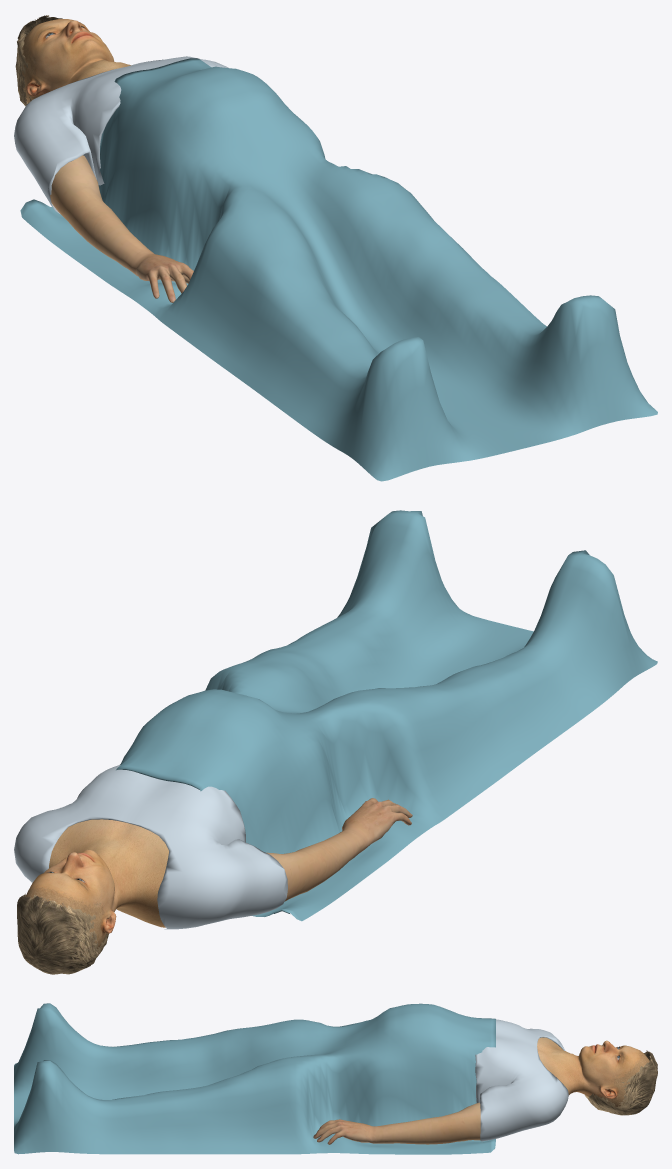
3 views of the same model, one above another, from view 1: azimuth 30°, elevation 25°; view 2: azimuth 150°, elevation 25°; view 3: azimuth 270°, elevation 25° (orthographic). The views are drawn at different scales.
Parts seen in each view (by area): view 1: sheet, gown, arms, body, hair; view 2: sheet, gown, body, hair, arms; view 3: sheet, gown, body, arms, hair.
Part boxes in pixels (bbox=[...]): sheet: bbox=[20, 58, 657, 481]; gown: bbox=[14, 56, 228, 214]; arms: bbox=[50, 155, 193, 302]; body: bbox=[22, 19, 130, 103]; hair: bbox=[15, 15, 62, 106]; sheet: bbox=[116, 510, 657, 921]; gown: bbox=[14, 764, 287, 929]; body: bbox=[26, 819, 168, 948]; hair: bbox=[17, 893, 109, 974]; arms: bbox=[266, 798, 412, 901]; sheet: bbox=[14, 1003, 495, 1154]; gown: bbox=[475, 1019, 568, 1141]; body: bbox=[537, 1037, 649, 1107]; arms: bbox=[313, 1102, 480, 1144]; hair: bbox=[585, 1050, 657, 1115].
Size of the model in its own units: 0.6453 by 0.3297 by 1.93.
8 materials, 6 textured.
